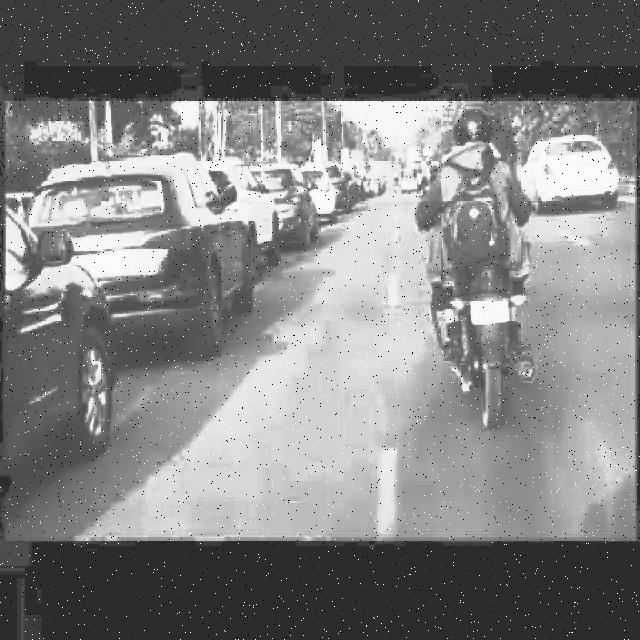Car: (98, 150, 224, 358), (8, 198, 93, 458), (526, 138, 625, 210), (226, 154, 262, 234), (272, 159, 306, 243), (317, 158, 342, 218)
